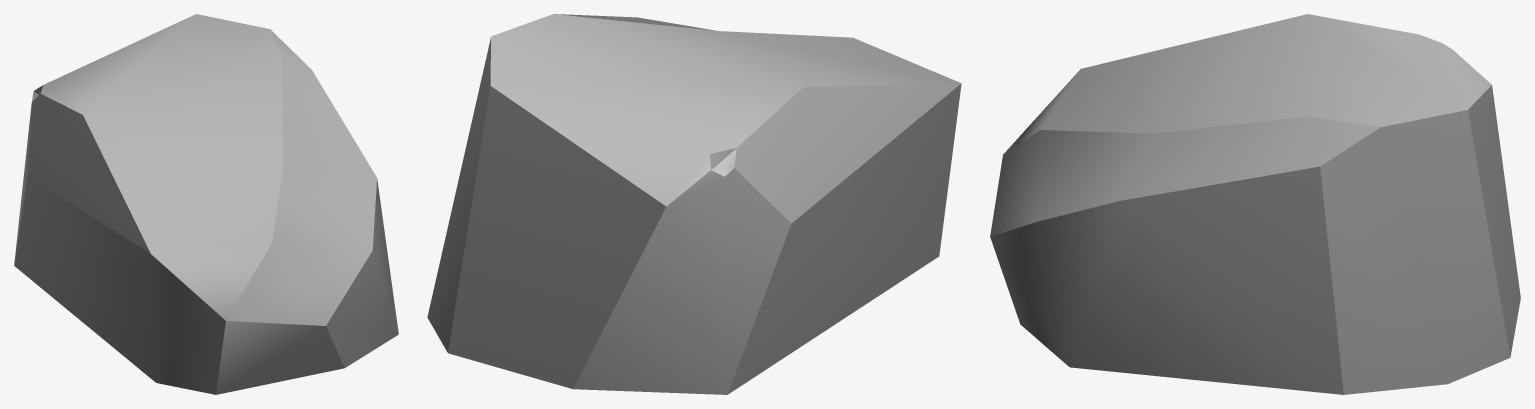
Rendered from SK_Rock_003.FBX.
3 renders of one model, left to right at view 1: azimuth 30°, elevation 25°; view 2: azimuth 150°, elevation 25°; view 3: azimuth 270°, elevation 25°, orthographic. The views are drawn at different scales.
Visible parts, largest first — view 1: SK_Rock_003; view 2: SK_Rock_003; view 3: SK_Rock_003.
Boxes of the visible parts, bbox=[...] form: SK_Rock_003: bbox=[14, 14, 398, 394]; SK_Rock_003: bbox=[427, 14, 961, 394]; SK_Rock_003: bbox=[990, 14, 1520, 394].
Size of the model in its own units: 36.87 by 26.1 by 50.9.
Materials: 1 (1 with a texture image).
